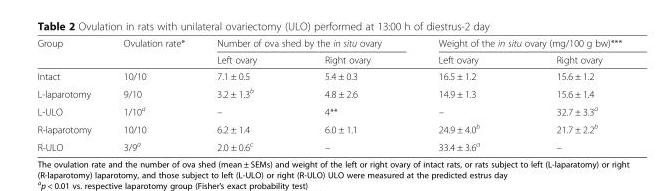table: (36, 37, 621, 152)
table column: (290, 37, 409, 152), (409, 37, 517, 152), (517, 37, 621, 152), (106, 37, 200, 152), (200, 37, 290, 152), (36, 37, 106, 152)
table column header: (36, 37, 621, 67)
table row: (36, 101, 621, 119), (36, 119, 621, 137), (36, 67, 621, 84), (36, 84, 621, 101), (36, 51, 621, 67), (36, 137, 621, 152), (36, 37, 621, 51)
table spanning cell: (409, 37, 621, 51), (200, 37, 409, 51), (106, 37, 200, 67), (36, 37, 106, 67)
